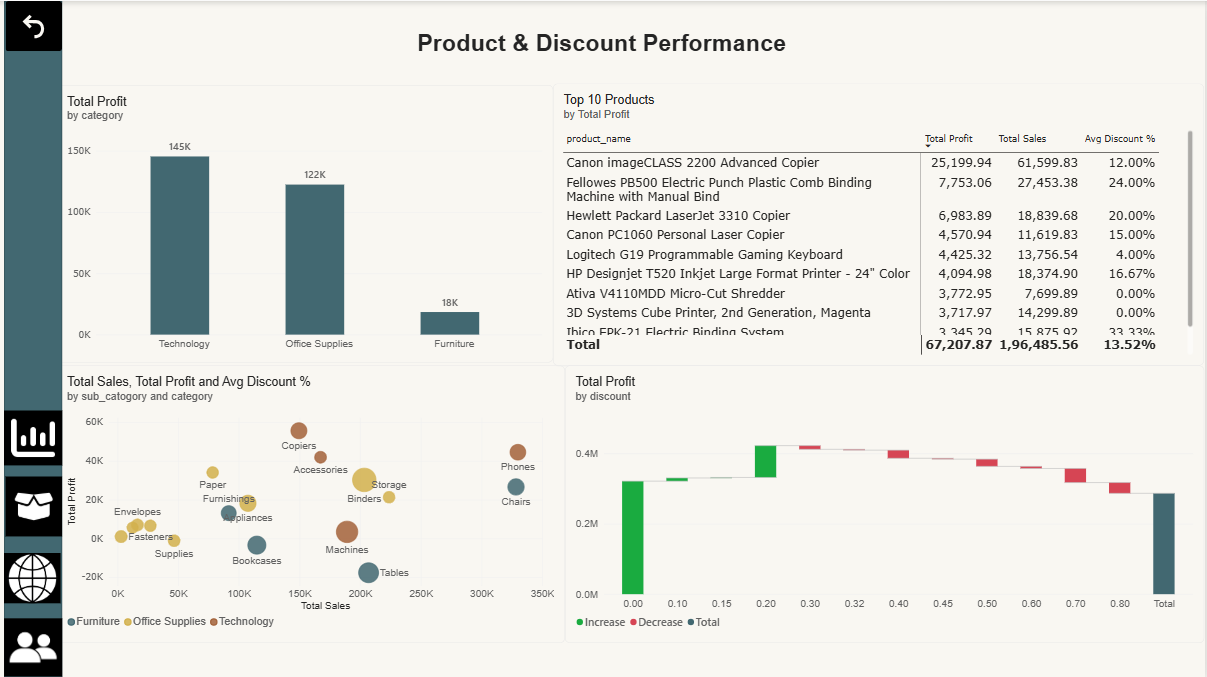

What the dashboard file says about the page in this screenshot:
{"tool":"powerbi","page":{"name":"Profitability","canvas":[1920,1080],"ordinal":2},"visuals":[{"type":"textbox","box":[0,45.3,1920.7,83.5],"z":0},{"type":"clusteredColumnChart","fields":{"Category":["dim_Products.category"],"Y":["_Measures.Total_Profit"]},"box":[93.1,133.6,789.7,441.4],"z":1000},{"type":"scatterChart","fields":{"Category":["dim_Products.sub_catogory"],"Series":["dim_Products.category"],"Size":["_Measures.Avg Discount %"],"X":["_Measures.Total_Sales"],"Y":["_Measures.Total_Profit"]},"box":[93.1,579.8,808.8,441.4],"z":2000},{"type":"pivotTable","title":"Top 10 Products","fields":{"Rows":["dim_Products.product_name"],"Values":["_Measures.Total_Profit","_Measures.Total_Sales","_Measures.Avg Discount %"]},"box":[882.8,131.2,1035.5,448.6],"z":3000},{"type":"waterfallChart","fields":{"Category":["fact_orders.discount"],"Y":["_Measures.Total_Profit"]},"box":[901.9,579.8,1016.4,441.4],"z":4000},{"type":"shape","box":[10,0,92.5,1080],"z":5000},{"type":"image","box":[10,975,92.5,105],"z":6000},{"type":"image","box":[9.5,651.4,92.5,87.5],"z":7000},{"type":"image","box":[9.5,878,90,80],"z":8000},{"type":"image","box":[12.5,757.5,90,95],"z":9000},{"type":"actionButton","box":[12.5,0,90,80],"z":10000}]}

Visuals, with their boxes on the page's 1920x1080 design canvas (x1, y1, x2, y2). These are canvas units, not pixel positions in the 1207x677 screenshot, which may show the page scaled, cropped or inside an application window:
textbox: {"left": 0, "top": 45, "right": 1921, "bottom": 129}
clusteredColumnChart - dim_Products.category x _Measures.Total_Profit: {"left": 93, "top": 134, "right": 883, "bottom": 575}
scatterChart - dim_Products.sub_catogory x dim_Products.category: {"left": 93, "top": 580, "right": 902, "bottom": 1021}
"Top 10 Products" pivotTable: {"left": 883, "top": 131, "right": 1918, "bottom": 580}
waterfallChart - fact_orders.discount x _Measures.Total_Profit: {"left": 902, "top": 580, "right": 1918, "bottom": 1021}
shape: {"left": 10, "top": 0, "right": 102, "bottom": 1080}
image: {"left": 10, "top": 975, "right": 102, "bottom": 1080}
image: {"left": 10, "top": 651, "right": 102, "bottom": 739}
image: {"left": 10, "top": 878, "right": 100, "bottom": 958}
image: {"left": 12, "top": 758, "right": 102, "bottom": 852}
actionButton: {"left": 12, "top": 0, "right": 102, "bottom": 80}
